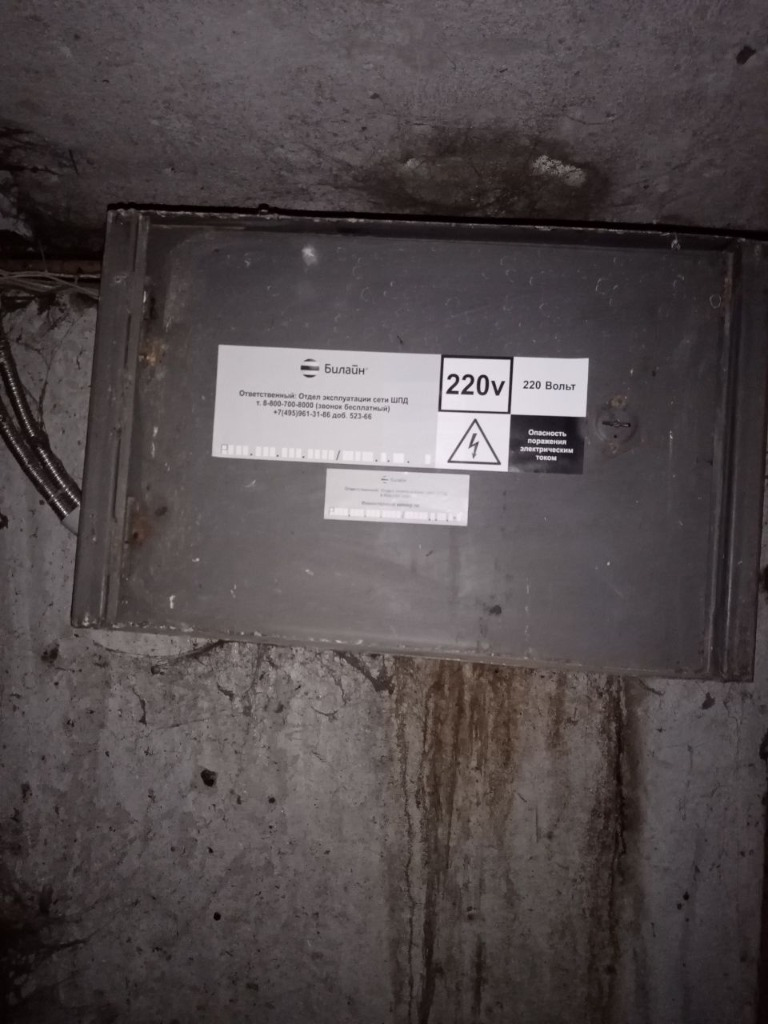e2-6u: (67, 198, 765, 686)
